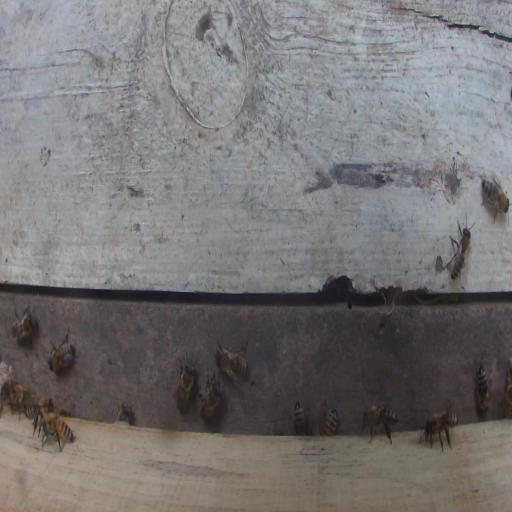nonpollenbee: (443, 218, 474, 282), (419, 402, 458, 452), (480, 169, 510, 225), (362, 403, 398, 445), (216, 341, 250, 381), (47, 328, 76, 374), (42, 412, 78, 448), (24, 395, 55, 436), (9, 383, 39, 424), (199, 370, 223, 421), (174, 359, 195, 414), (11, 303, 35, 341), (475, 359, 489, 414), (502, 357, 512, 417), (293, 402, 309, 435), (321, 407, 338, 436), (115, 402, 134, 425)
